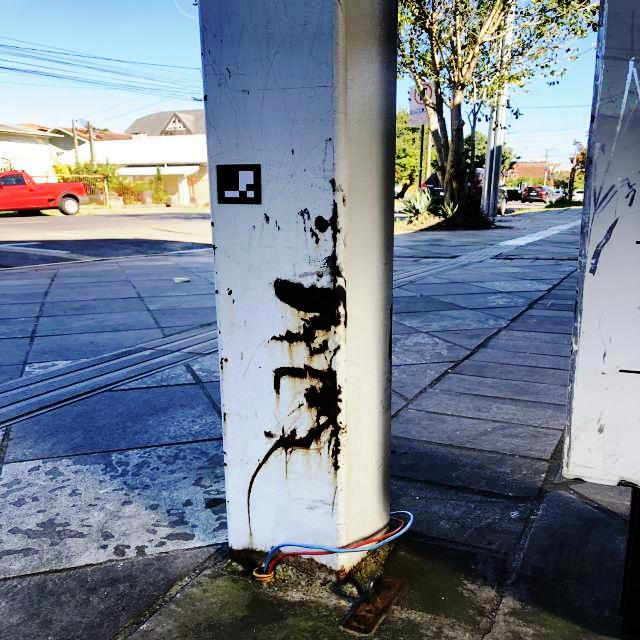Corrosion: (247, 345, 348, 534), (267, 199, 349, 361), (343, 576, 404, 634), (336, 550, 373, 585), (228, 546, 264, 573), (298, 556, 335, 572), (388, 303, 393, 371), (298, 208, 311, 224), (309, 227, 320, 245), (328, 178, 336, 193), (265, 545, 276, 555), (263, 212, 271, 224), (264, 429, 274, 438), (219, 357, 224, 370), (317, 273, 325, 279), (295, 403, 304, 408), (212, 244, 218, 251), (276, 221, 280, 231), (223, 412, 226, 423), (303, 225, 307, 233), (203, 94, 208, 100), (228, 290, 233, 295), (218, 330, 222, 336), (223, 358, 228, 362), (334, 331, 338, 336), (232, 298, 235, 304), (211, 222, 214, 227), (224, 462, 227, 467), (277, 549, 282, 552), (343, 197, 345, 203), (215, 290, 218, 294), (227, 287, 230, 291), (224, 451, 227, 455)
